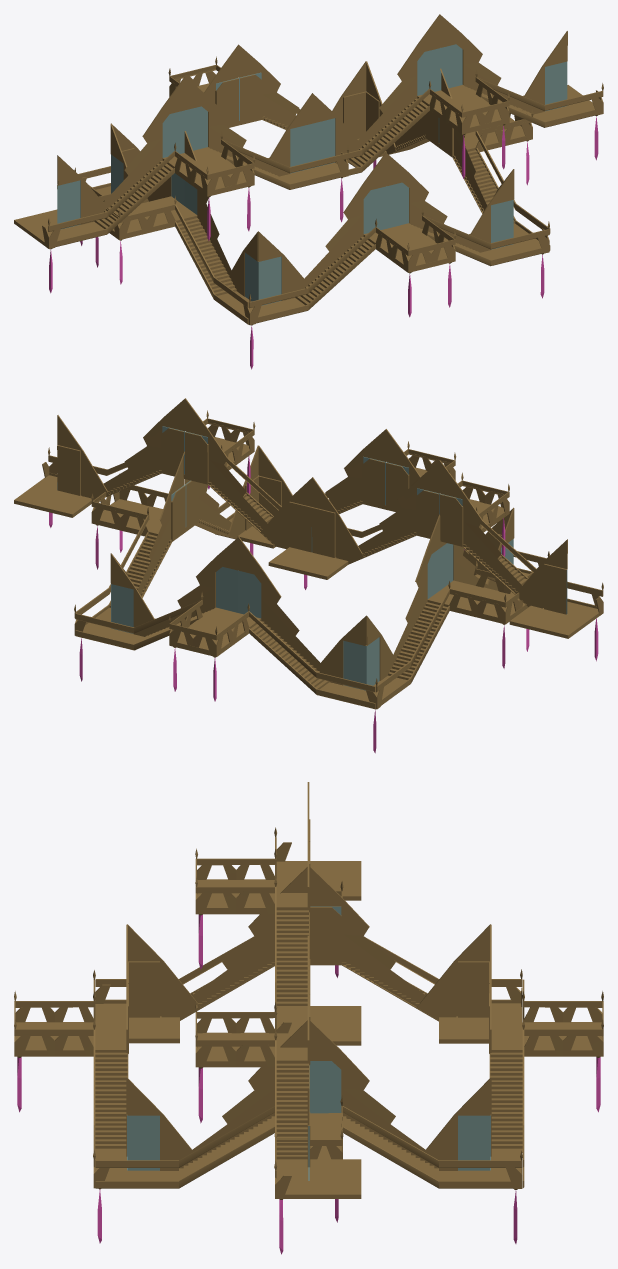
The model's file is Four.fbx.
3 views of the same model, one above another, from view 1: azimuth 30°, elevation 25°; view 2: azimuth 150°, elevation 25°; view 3: azimuth 270°, elevation 25° (orthographic). The views are drawn at different scales.
Parts seen in each view (by area): view 1: Four_Whole, Four_Right, Four_Left, Four_Full; view 2: Four_Whole, Four_Right, Four_Left, Four_Full; view 3: Four_Whole, Four_Left, Four_Right, Four_Full.
Boxes of the visible parts, left/top/right/bottom form: Four_Whole: left=74, top=44, right=550, bottom=369; Four_Right: left=14, top=76, right=348, bottom=293; Four_Left: left=304, top=14, right=603, bottom=186; Four_Full: left=268, top=145, right=348, bottom=222; Four_Whole: left=74, top=429, right=549, bottom=753; Four_Right: left=312, top=460, right=603, bottom=661; Four_Left: left=14, top=398, right=312, bottom=552; Four_Full: left=268, top=547, right=348, bottom=589; Four_Whole: left=14, top=867, right=603, bottom=1243; Four_Left: left=195, top=935, right=361, bottom=1254; Four_Right: left=195, top=782, right=361, bottom=1005; Four_Full: left=274, top=1006, right=361, bottom=1045.
Size of the model in its own units: 4681 by 1831 by 3496.
